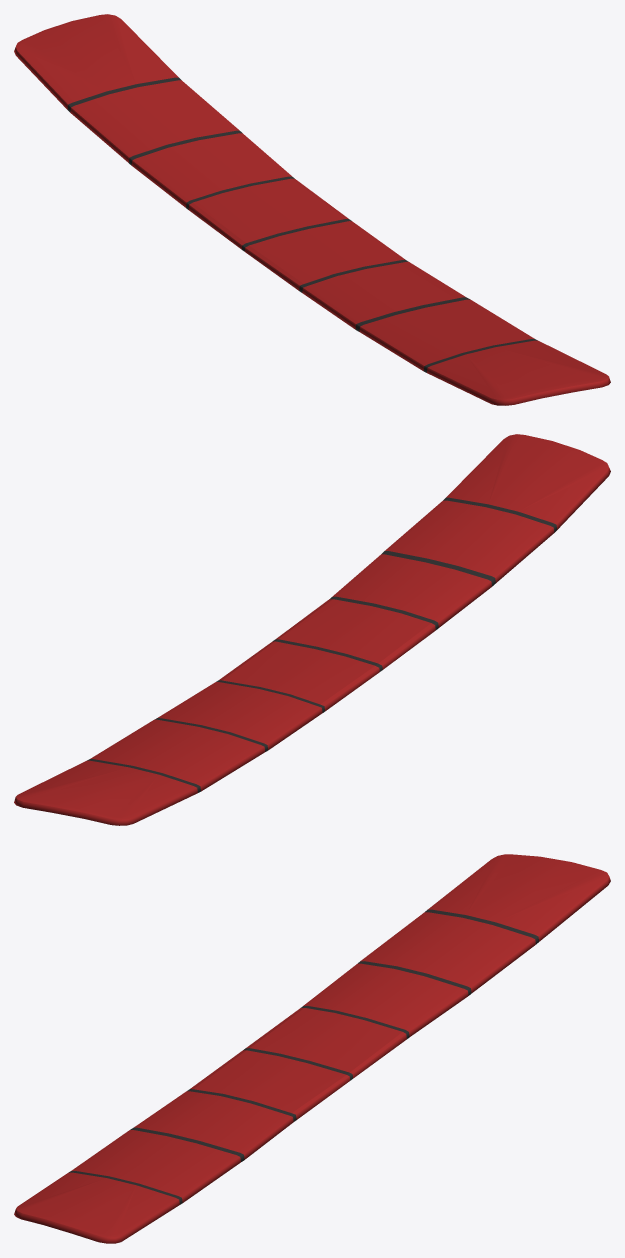
File: SM_Wing_T.fbx
3 views of the same model, one above another, from view 1: azimuth 30°, elevation 25°; view 2: azimuth 150°, elevation 25°; view 3: azimuth 330°, elevation 25° (orthographic).
Visible parts, largest first — view 1: SM_Wing_T; view 2: SM_Wing_T; view 3: SM_Wing_T.
Part boxes in pixels (box(x1,y1,x2,y2)): SM_Wing_T: box(14, 14, 610, 405); SM_Wing_T: box(14, 434, 610, 825); SM_Wing_T: box(14, 854, 610, 1243).
Bounding box in the file's own units: 2.06 × 14.82 × 0.473.
